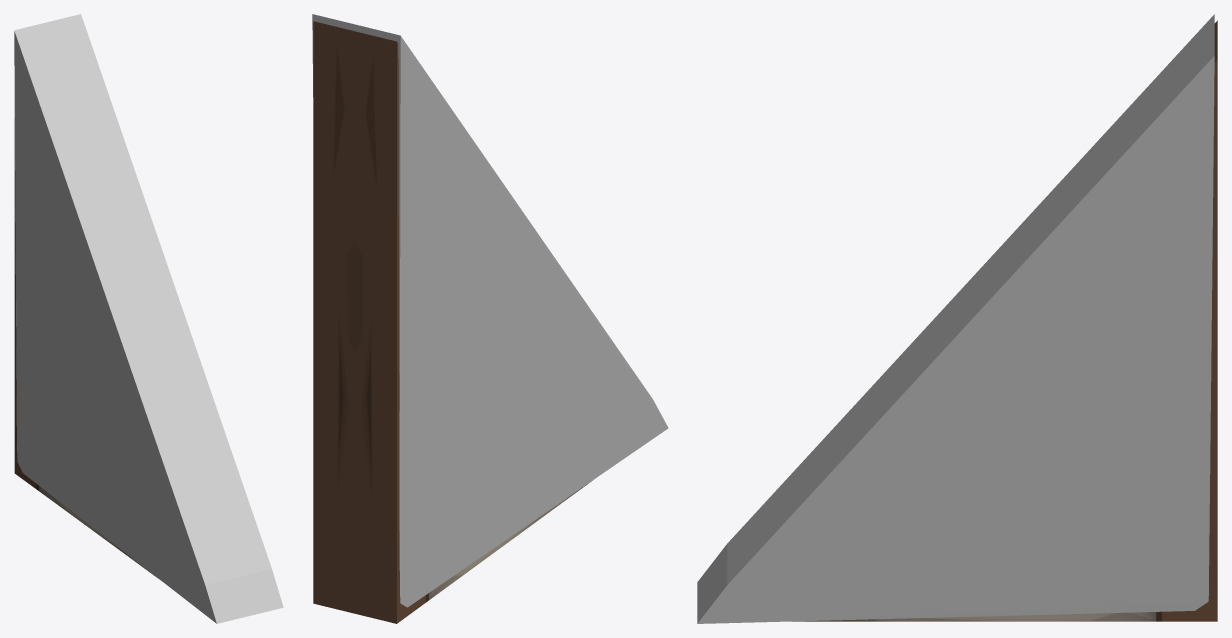
File: SM_Bld_Wall_End_Straight_Small_01.fbx
3 renders of one model, left to right at view 1: azimuth 30°, elevation 25°; view 2: azimuth 150°, elevation 25°; view 3: azimuth 270°, elevation 25°, orthographic. The views are drawn at different scales.
Visible parts, largest first — view 1: SM_Bld_Wall_End_Straight_Small_01_ConvexHulls, SM_Bld_Wall_End_Straight_Small_01; view 2: SM_Bld_Wall_End_Straight_Small_01_ConvexHulls, SM_Bld_Wall_End_Straight_Small_01; view 3: SM_Bld_Wall_End_Straight_Small_01_ConvexHulls, SM_Bld_Wall_End_Straight_Small_01.
Boxes of the visible parts, <box> form: SM_Bld_Wall_End_Straight_Small_01_ConvexHulls: <box>14,14,283,623</box>; SM_Bld_Wall_End_Straight_Small_01: <box>14,118,158,578</box>; SM_Bld_Wall_End_Straight_Small_01_ConvexHulls: <box>312,14,668,607</box>; SM_Bld_Wall_End_Straight_Small_01: <box>313,21,592,623</box>; SM_Bld_Wall_End_Straight_Small_01_ConvexHulls: <box>697,14,1214,623</box>; SM_Bld_Wall_End_Straight_Small_01: <box>792,20,1217,621</box>.
Size of the model in its own units: 23.79 by 126 by 152.
2 materials, 1 textured.
